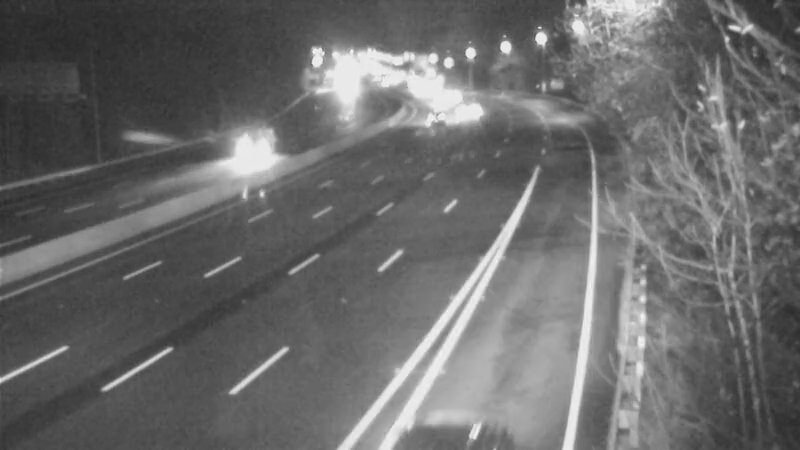vehicle: (414, 80, 464, 130), (442, 90, 492, 140), (411, 93, 461, 143), (233, 120, 283, 170)
